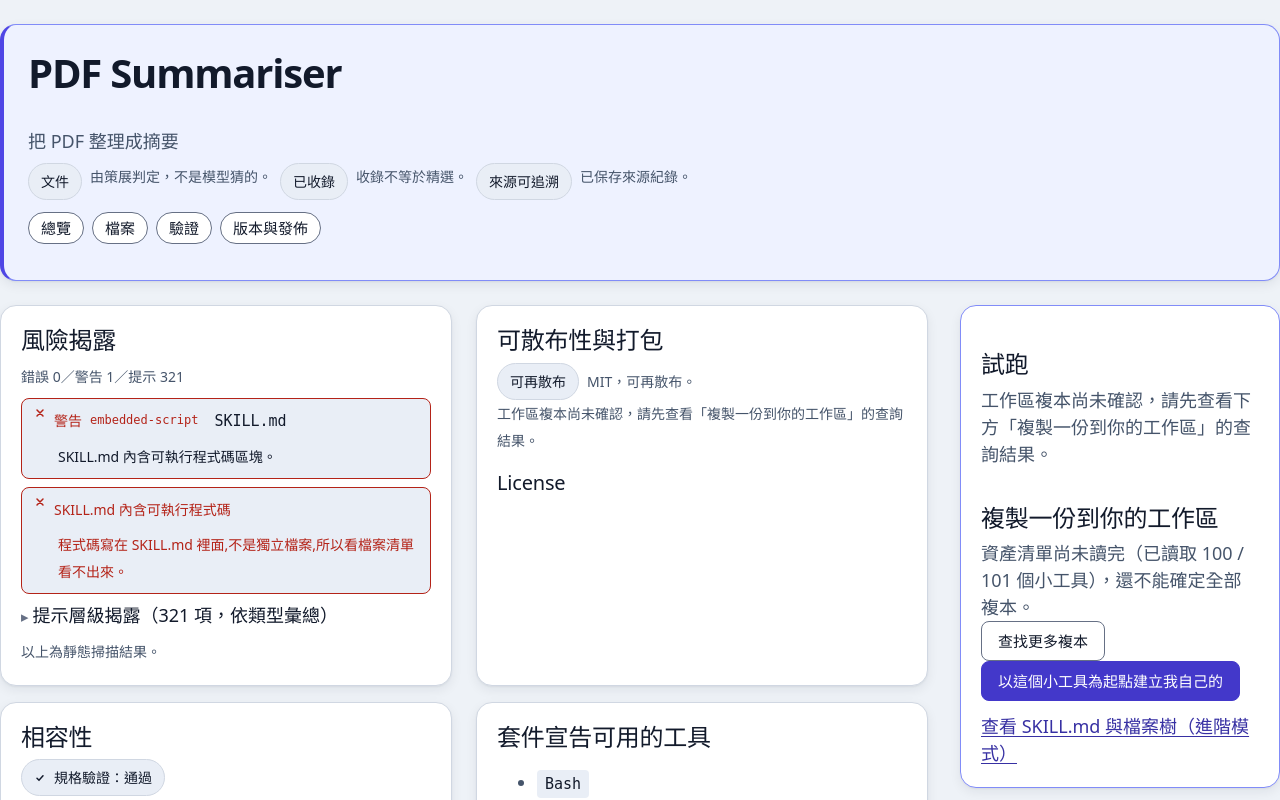
Scenario: an incomplete listing finds a copy beyond the first hundred assets and continues keyboard focus
Click the button "查找更多複本": x=1043, y=641 [981,621,1105,661]
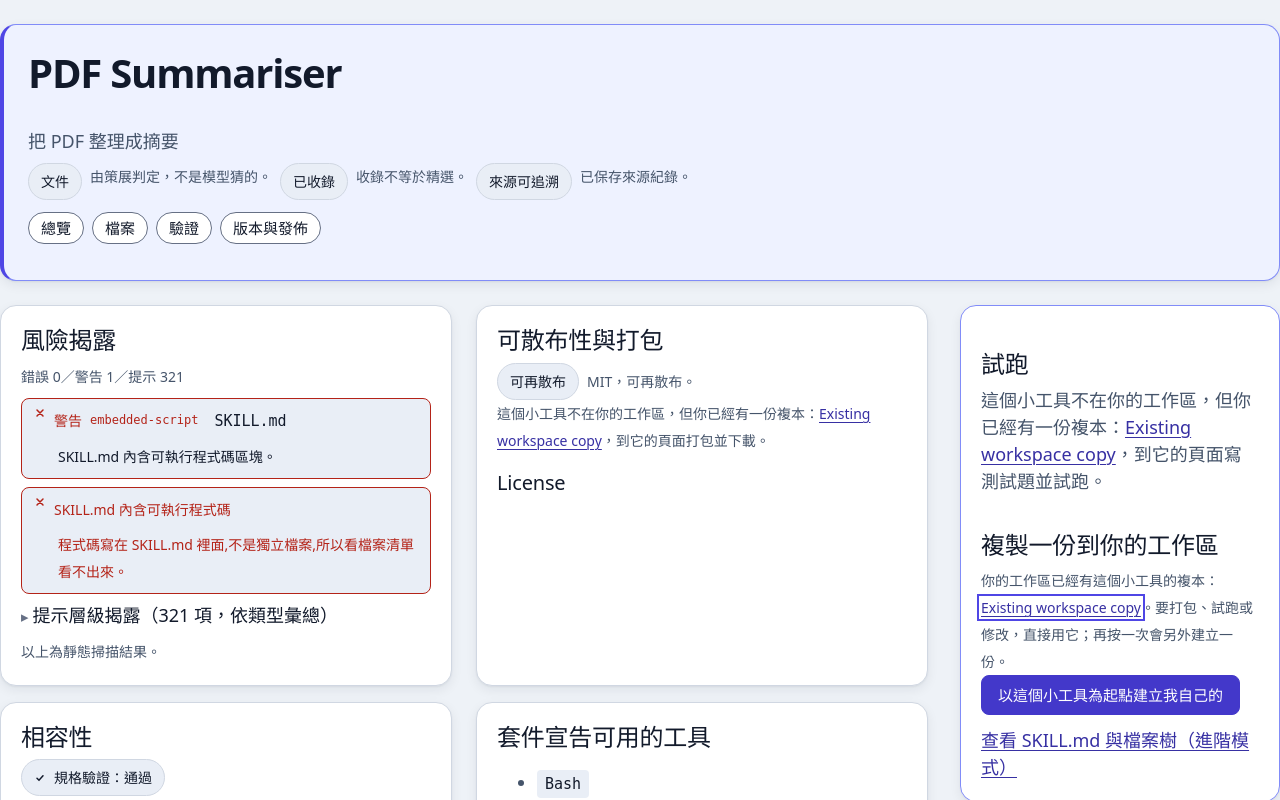
Expected: the link "Existing workspace copy" next to "。要打包、試跑或修改，直接用它；再按一次會另外建立一份。" is shown, [981,598,1141,617]
Expected: the text "尚未讀完" is gone
